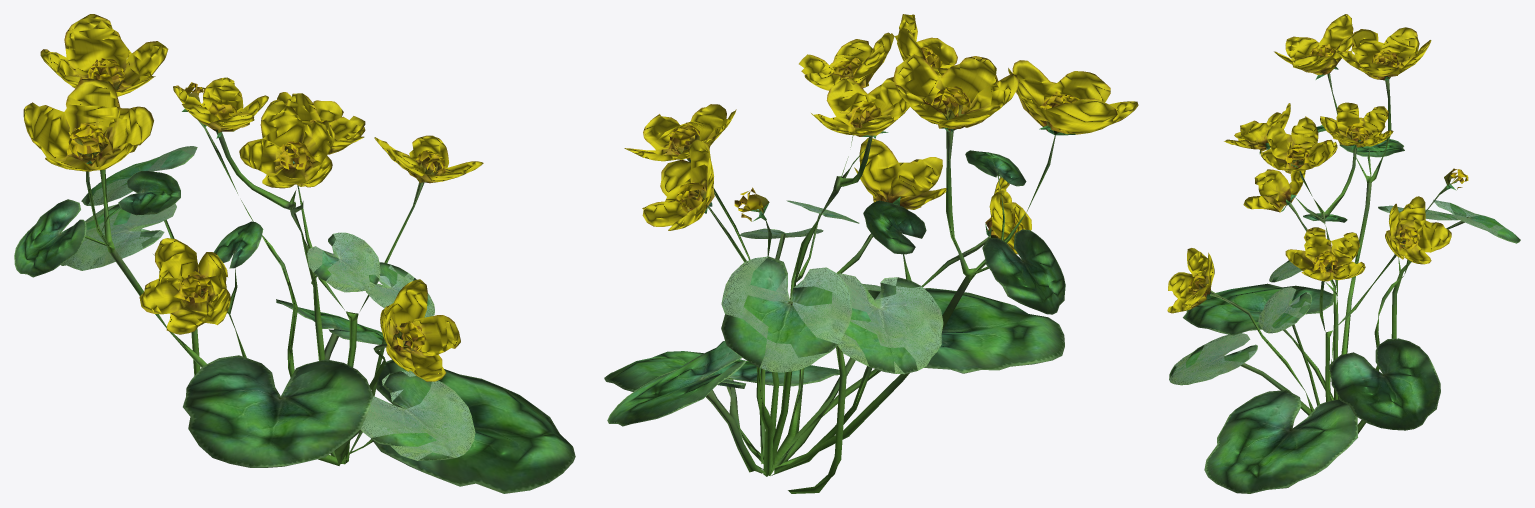
3 renders of one model, left to right at view 1: azimuth 30°, elevation 25°; view 2: azimuth 150°, elevation 25°; view 3: azimuth 270°, elevation 25°, orthographic. The views are drawn at different scales.
Parts seen in each view (by area): view 1: 95ad071a; view 2: 95ad071a; view 3: 95ad071a.
Part boxes in pixels (x1=…): 95ad071a: x1=14, y1=14, x2=575, y2=493; 95ad071a: x1=604, y1=14, x2=1138, y2=493; 95ad071a: x1=1167, y1=14, x2=1520, y2=493.
Size of the model in its own units: 0.1656 by 0.144 by 0.138.
1 material, 1 textured.
